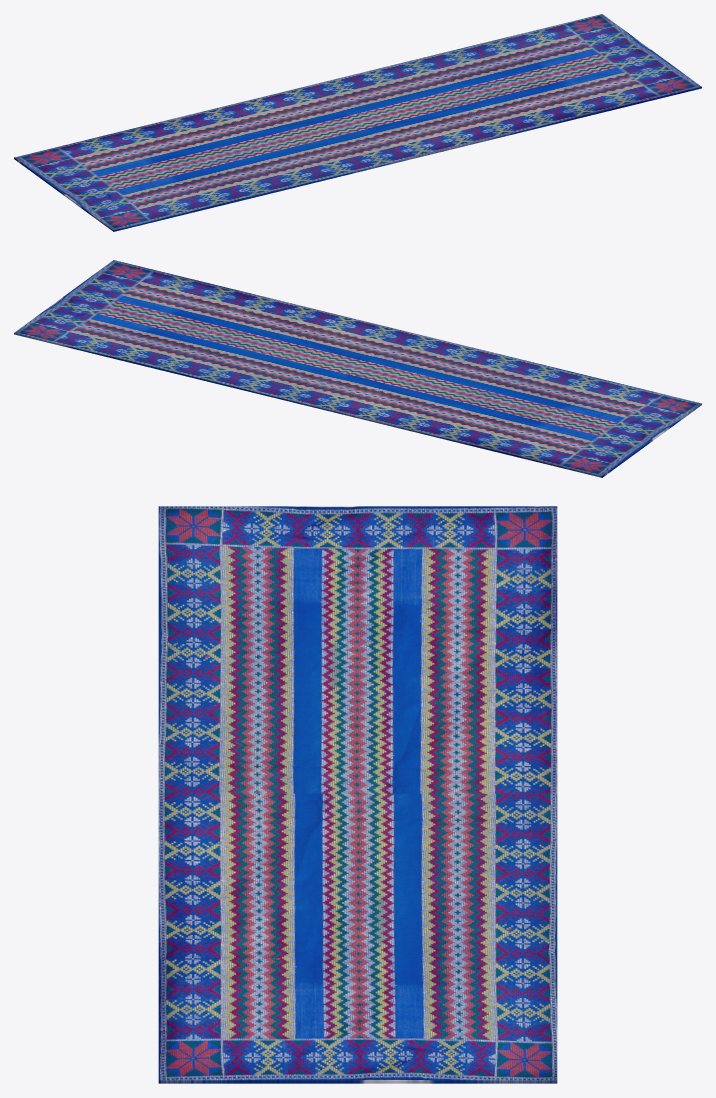
The model's file is TABLE RUNNER 1.fbx.
3 views of the same model, one above another, from view 1: azimuth 30°, elevation 25°; view 2: azimuth 150°, elevation 25°; view 3: azimuth 270°, elevation 25° (orthographic). The views are drawn at different scales.
Parts seen in each view (by area): view 1: pPlane5; view 2: pPlane5; view 3: pPlane5.
Part boxes in pixels (x1,y1,x2,y2): pPlane5: (14, 14, 701, 231); pPlane5: (14, 260, 701, 477); pPlane5: (158, 506, 557, 1083).
Bounding box in the file's own units: 583 × 1.4 × 171.
1 material, 1 textured.
